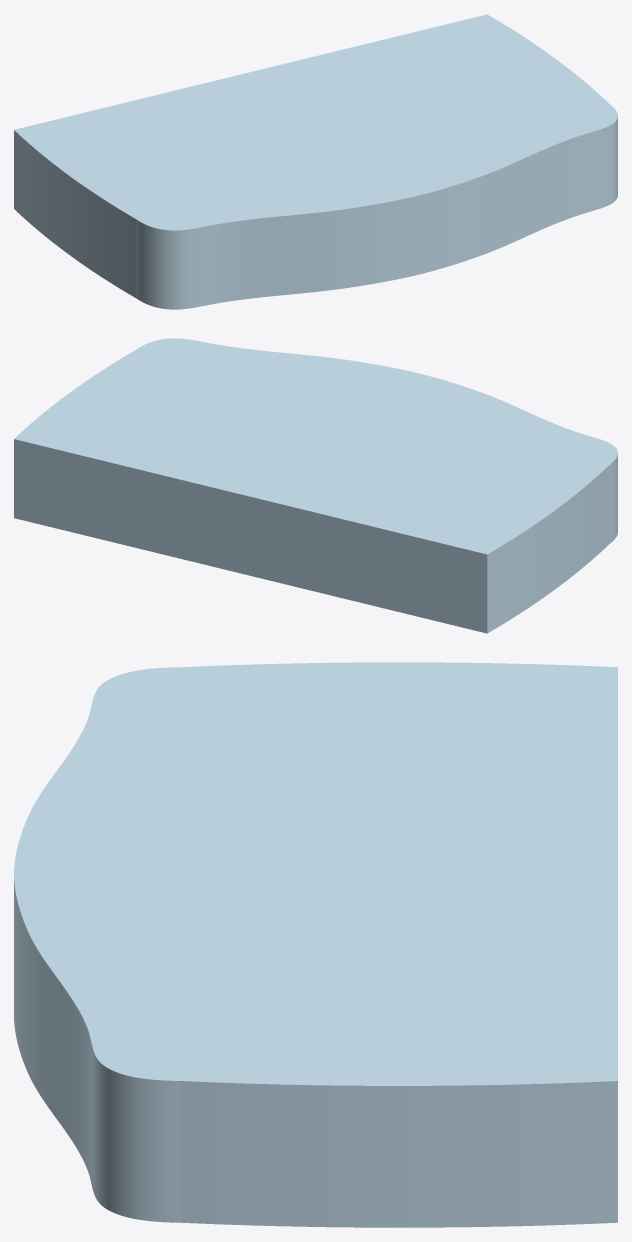
3 renders of one model, top to bottom at view 1: azimuth 30°, elevation 25°; view 2: azimuth 150°, elevation 25°; view 3: azimuth 270°, elevation 25°, orthographic. The views are drawn at different scales.
Parts seen in each view (by area): view 1: PA-538-F_LOD0; view 2: PA-538-F_LOD0; view 3: PA-538-F_LOD0.
Part boxes in pixels (bbox=[...]): PA-538-F_LOD0: bbox=[14, 14, 617, 309]; PA-538-F_LOD0: bbox=[14, 338, 617, 633]; PA-538-F_LOD0: bbox=[14, 662, 617, 1227].
Size of what is drawn, in the model's own units: 163 by 25.4 by 98.09.
